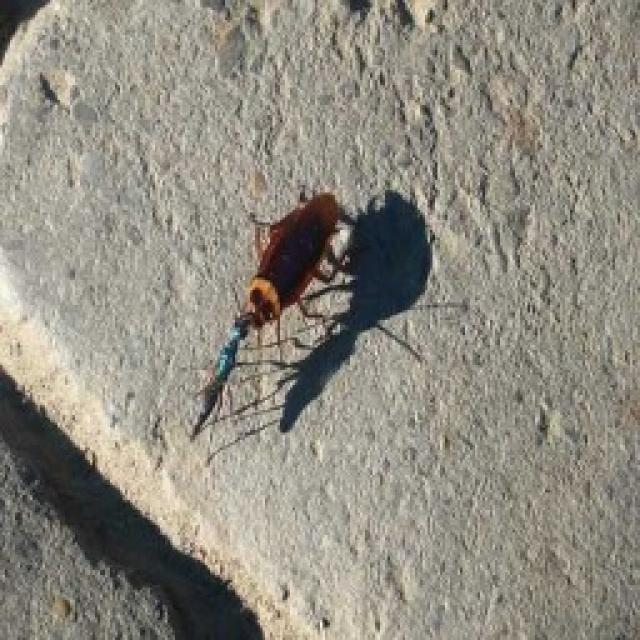cockroach: (184, 183, 381, 357)
